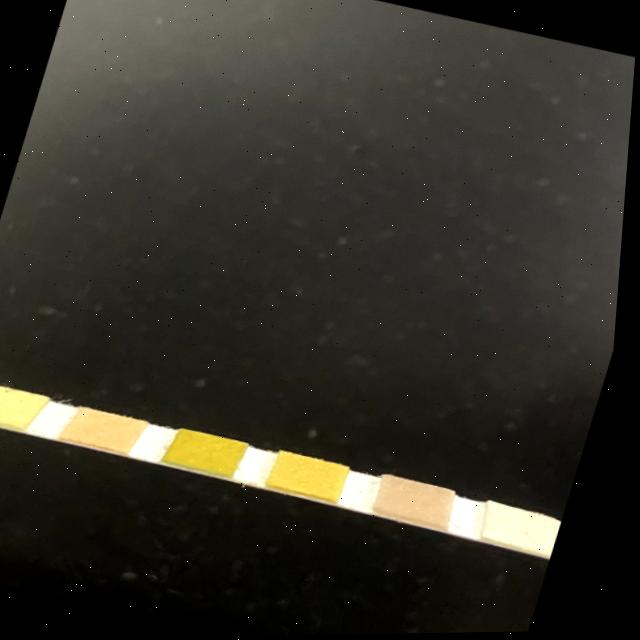Bilirubin: (492, 507, 566, 553)
Blood: (176, 427, 249, 476)
Ketone: (383, 474, 460, 527)
Protein: (0, 383, 36, 425)
SpGravity: (273, 451, 351, 498)
pH: (77, 407, 142, 452)
